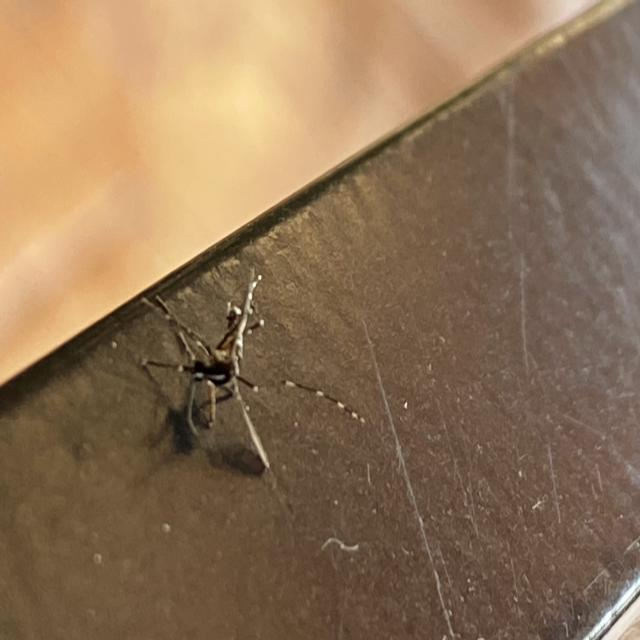albopictus: (122, 263, 282, 471)
